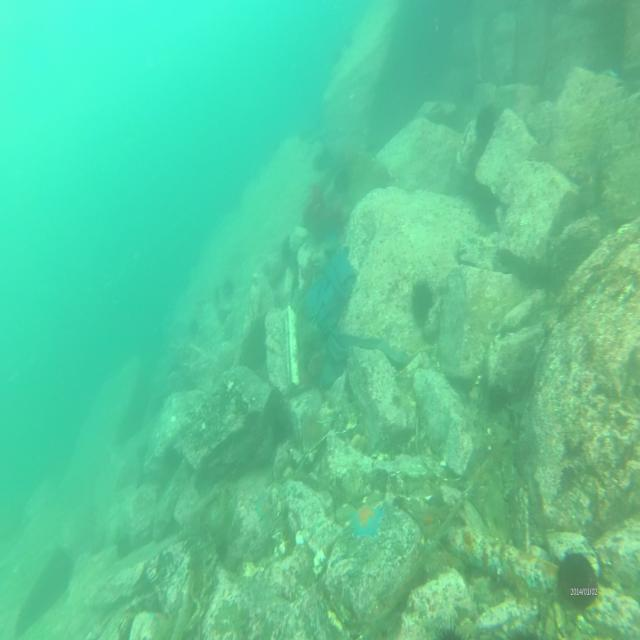echinus: (557, 544, 596, 612), (411, 278, 432, 323), (476, 101, 498, 143)
starfish: (350, 498, 384, 542)
